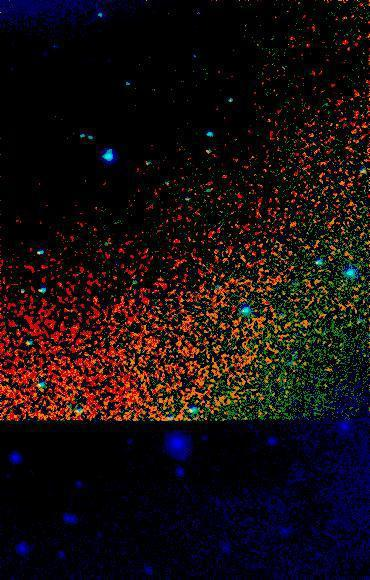star: (79, 285, 109, 315)
